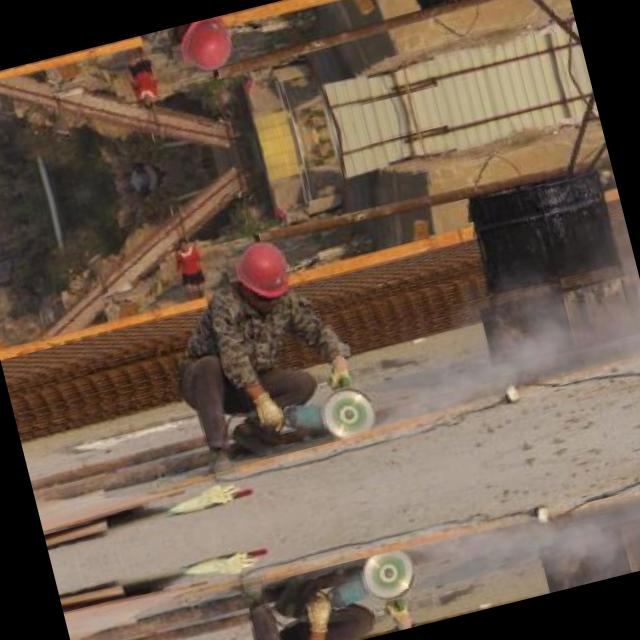helmet: (224, 232, 300, 310), (168, 12, 242, 78)
